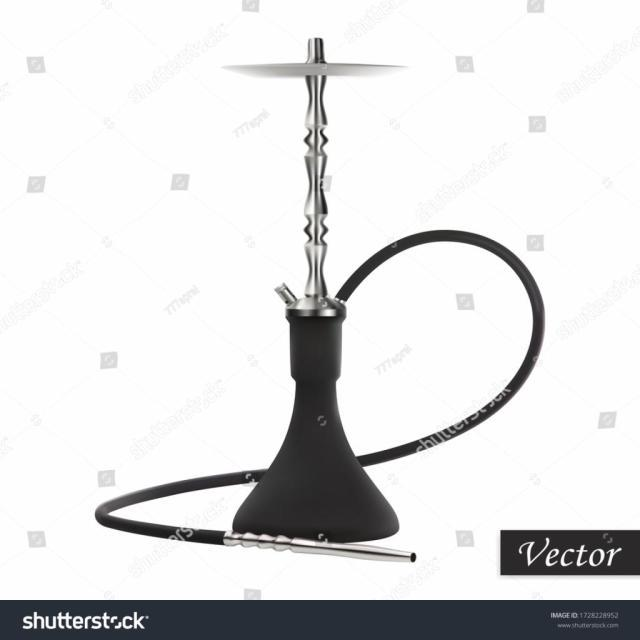smoking: (92, 15, 608, 632)
